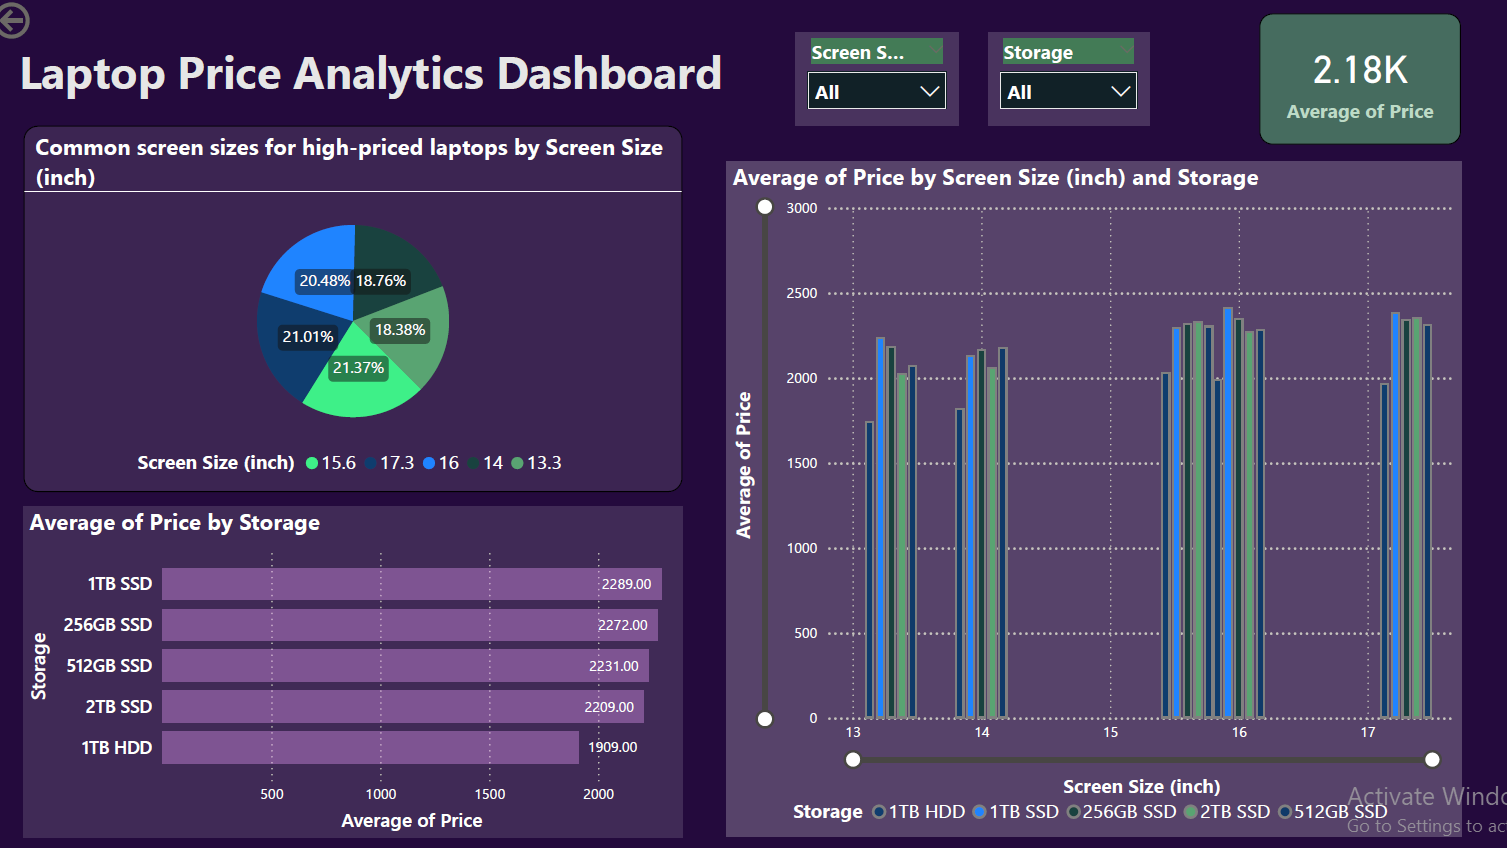

This screenshot's page, from the dashboard's own definition file:
{"tool":"powerbi","page":{"name":"Page 2","canvas":[1280,720],"ordinal":1},"visuals":[{"type":"textbox","box":[20.6,31.6,629.8,76.8],"z":1000},{"type":"slicer","fields":{"Values":["Average prices by Storage.Storage"]},"box":[838,30.4,135.4,77.2],"z":7000},{"type":"card","fields":{"Values":["Avg(avgPrice.Avg_Price)"]},"box":[1064.6,13.9,169.6,110.1],"z":9000},{"type":"actionButton","box":[0,0,100,40],"z":11000},{"type":"pieChart","fields":{"Y":["Avg(common screen sizes for high-priced laptops.Count)"],"Category":["common screen sizes for high-priced laptops.Screen Size (inch)"]},"box":[30.4,107.6,551.9,307.6],"z":12001},{"type":"clusteredColumnChart","fields":{"Category":["storage size and the price of laptops across different screen sizes.Screen Size (inch)"],"Y":["Avg(storage size and the price of laptops across different screen sizes.Avg_Price)"],"Series":["storage size and the price of laptops across different screen sizes.Storage"]},"box":[619.5,137.7,614.3,564.9],"z":12002},{"type":"slicer","fields":{"Values":["storage size and the price of laptops across different screen sizes.Screen Size (inch)"]},"box":[677.2,30.4,135.4,77.2],"z":12003},{"type":"clusteredBarChart","fields":{"Category":["Average prices by Storage.Storage"],"Y":["Avg(Average prices by Storage.Avg_Price)"]},"box":[30.4,426.6,551.9,277.2],"z":12004}]}

Visuals, with their boxes in screenshot pixels (x1, y1, x2, y2), scaled from the page's 1280x720 canvas onto the 1507x848 screenshot:
textbox: bbox(24, 37, 766, 128)
slicer - Average prices by Storage.Storage: bbox(987, 36, 1146, 127)
card - Avg(avgPrice.Avg_Price): bbox(1253, 16, 1453, 146)
actionButton: bbox(0, 0, 118, 47)
pieChart - Avg(common screen sizes for high-priced laptops.Count) x common screen sizes for high-priced laptops.Screen Size (inch): bbox(36, 127, 686, 489)
clusteredColumnChart - storage size and the price of laptops across different screen sizes.Screen Size (inch) x Avg(storage size and the price of laptops across different screen sizes.Avg_Price): bbox(729, 162, 1453, 828)
slicer - storage size and the price of laptops across different screen sizes.Screen Size (inch): bbox(797, 36, 957, 127)
clusteredBarChart - Average prices by Storage.Storage x Avg(Average prices by Storage.Avg_Price): bbox(36, 502, 686, 829)
